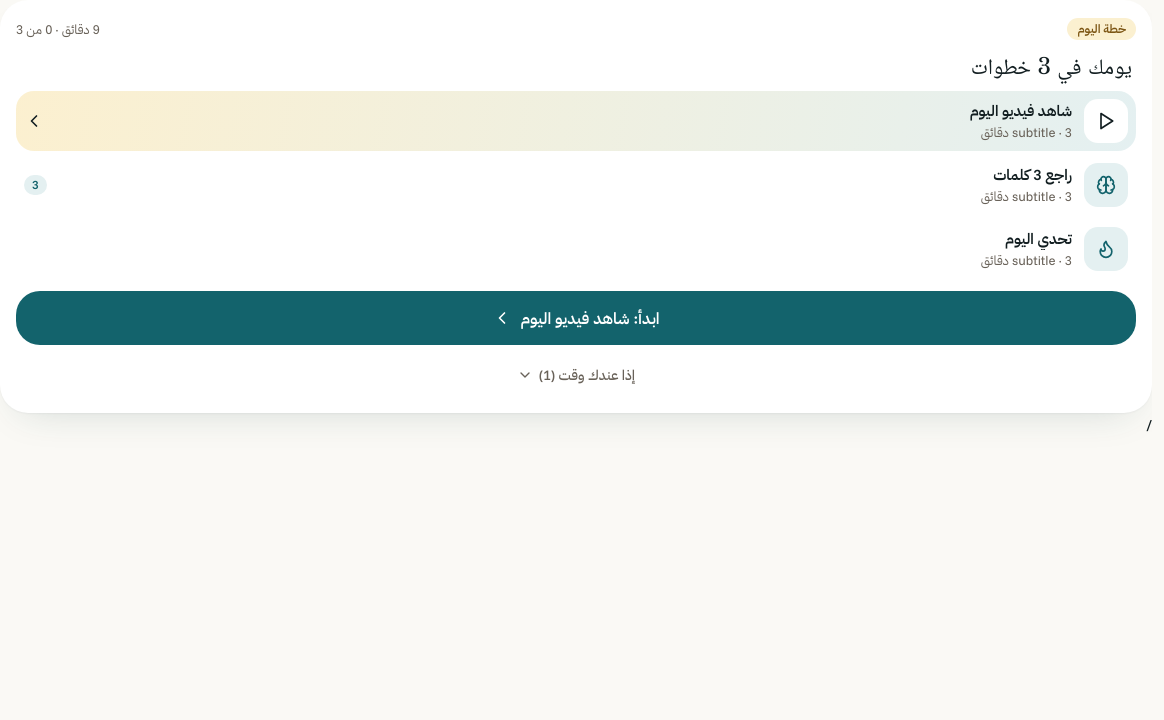
the extras › unfold under 'if you have time' and open like any step
Step 1. Click the button "إذا عندك وقت (1)" → (576, 375), box [16,353,1136,397]
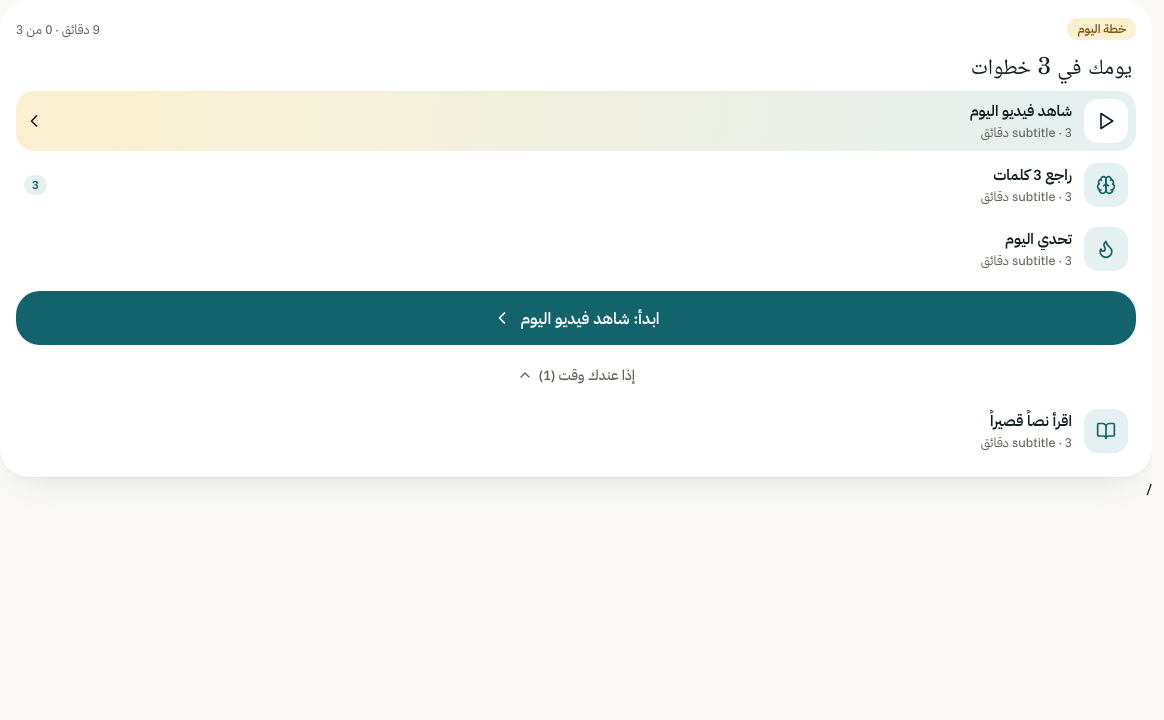
Check: the button "إذا عندك وقت (1)" is expanded, box [16,353,1136,397]
Step 2. Click the button with aria-label "اقرأ نصاً قصيراً —" → (1106, 431), box [16,401,1136,461]
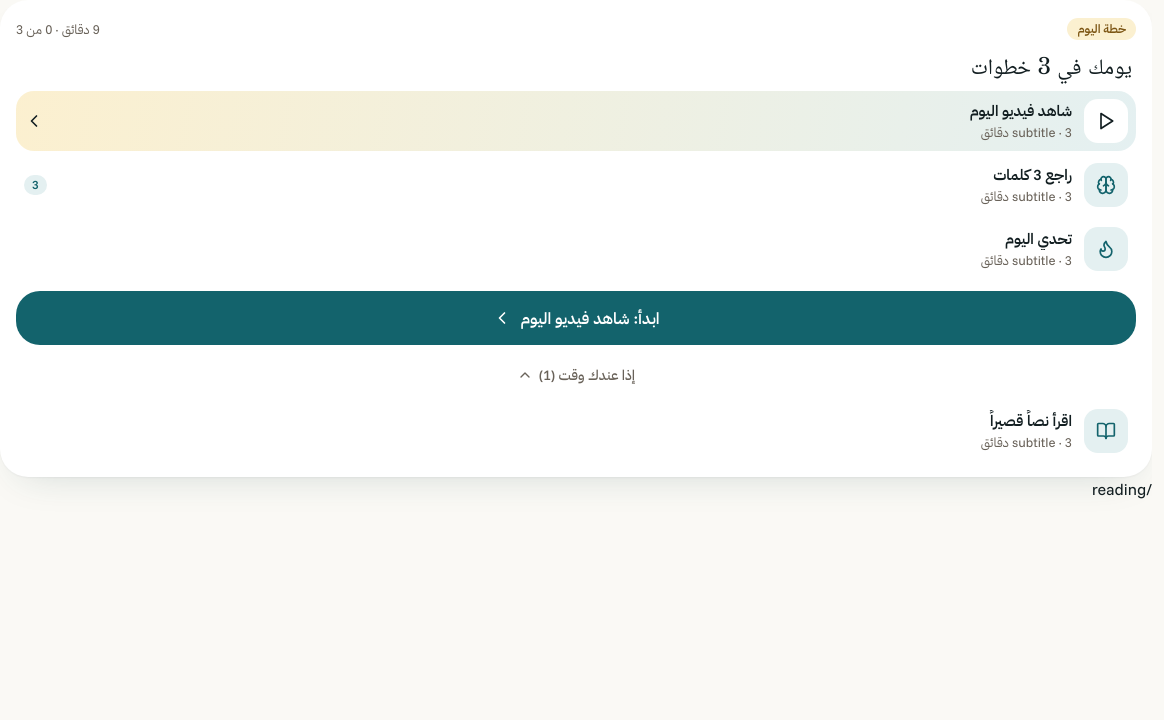
Check: the text with test id "where" reads "/reading", box [1092,479,1152,499]
